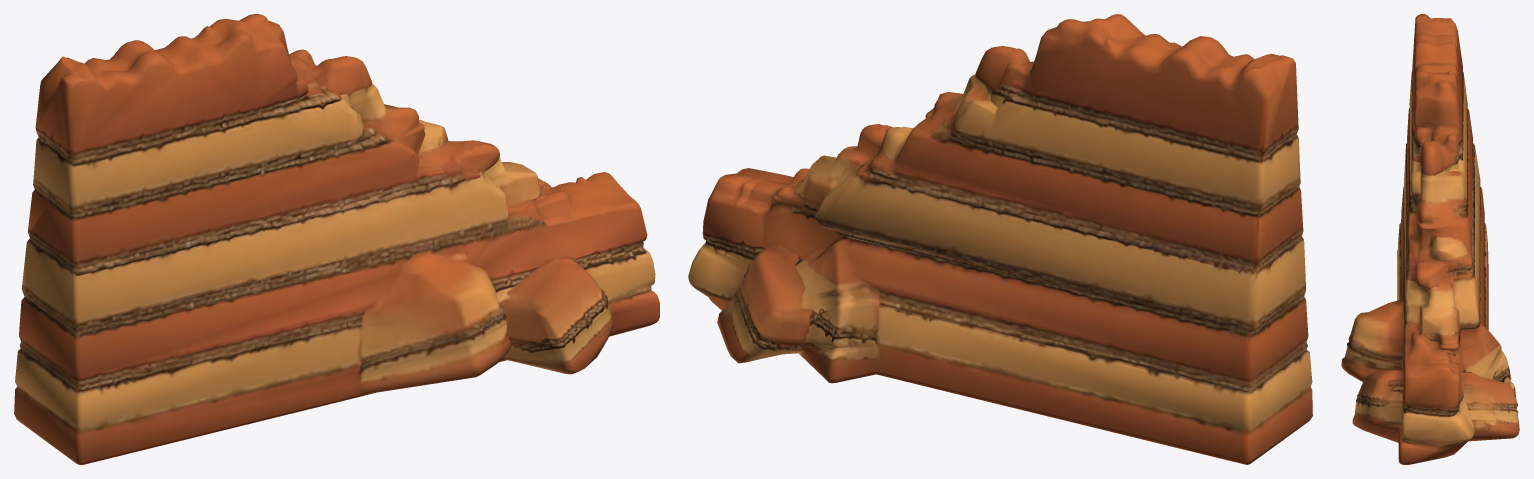
Rendered from SM_Tripo_DesertHanWallEnd.glb.
The picture shows the model from 3 angles, left to right: view 1: azimuth 30°, elevation 25°; view 2: azimuth 150°, elevation 25°; view 3: azimuth 270°, elevation 25°; orthographic projection. The views are drawn at different scales.
Visible parts, largest first — view 1: SM_Tripo_DesertHanWallEnd_LOD0; view 2: SM_Tripo_DesertHanWallEnd_LOD0; view 3: SM_Tripo_DesertHanWallEnd_LOD0.
Part boxes in pixels (bbox=[...]): SM_Tripo_DesertHanWallEnd_LOD0: bbox=[14, 14, 659, 464]; SM_Tripo_DesertHanWallEnd_LOD0: bbox=[688, 14, 1312, 464]; SM_Tripo_DesertHanWallEnd_LOD0: bbox=[1341, 14, 1519, 464].
Size of the model in its own units: 5.65 by 3.5 by 2.17.
Materials: 1 (1 with a texture image).
